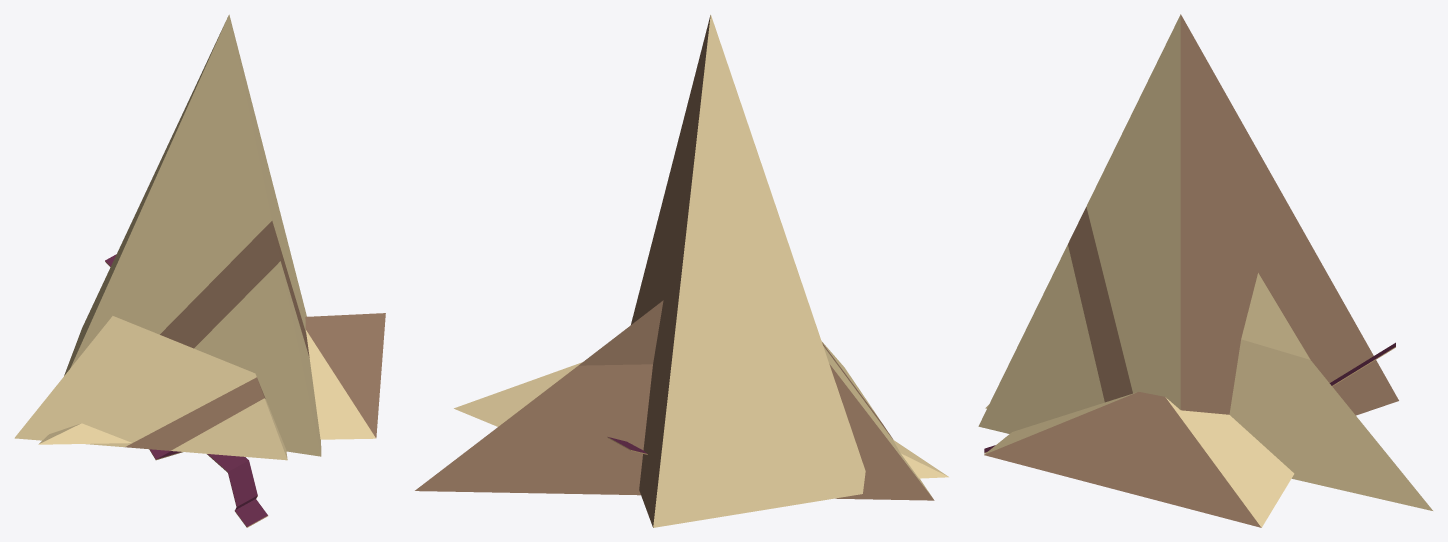
Rendered from voyage random assets.fbx.
3 views of the same model, side by side, from view 1: azimuth 30°, elevation 25°; view 2: azimuth 150°, elevation 25°; view 3: azimuth 270°, elevation 25° (orthographic). The views are drawn at different scales.
Visible parts, largest first — view 1: Cone.002, Piramidal grande, Cone.001, Strap; view 2: Cone.002, Piramidal grande, Cone.001; view 3: Cone.002, Cone.001, Piramidal grande.
Part boxes in pixels (box(x1,y1,x2,y2)): Cone.002: box(64, 14, 321, 456); Piramidal grande: box(14, 316, 287, 460); Cone.001: box(38, 313, 385, 444); Strap: box(105, 254, 268, 527); Cone.002: box(631, 14, 865, 527); Piramidal grande: box(415, 300, 934, 500); Cone.001: box(454, 362, 948, 478); Cone.002: box(978, 14, 1398, 433); Cone.001: box(984, 392, 1294, 527); Piramidal grande: box(985, 273, 1432, 510).
Size of the model in its own units: 3791 by 3895 by 3390.
Materials: 3 (3 with a texture image).
